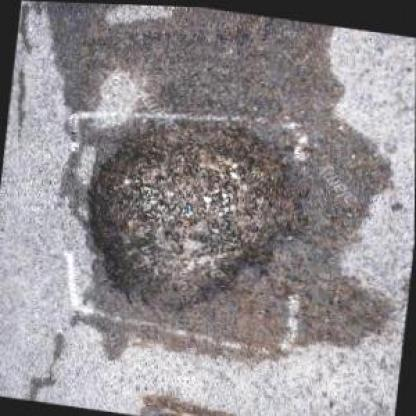pothole: (69, 98, 314, 330)
